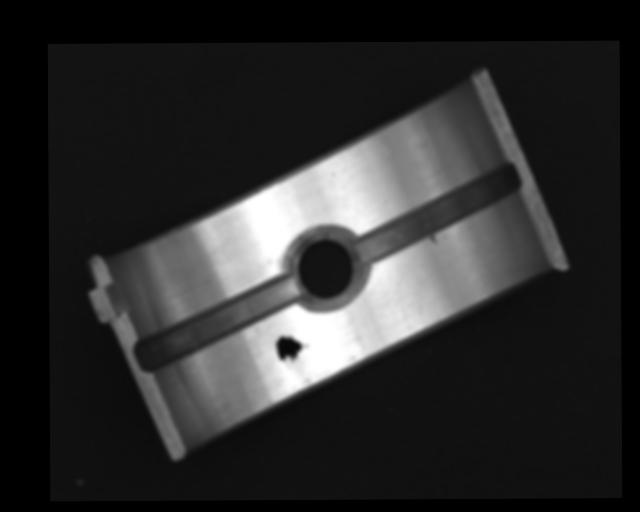blot: (274, 334, 309, 370)
bruise: (427, 233, 438, 245)
gap: (357, 164, 520, 265), (135, 278, 298, 373)
hole: (290, 228, 363, 307)
